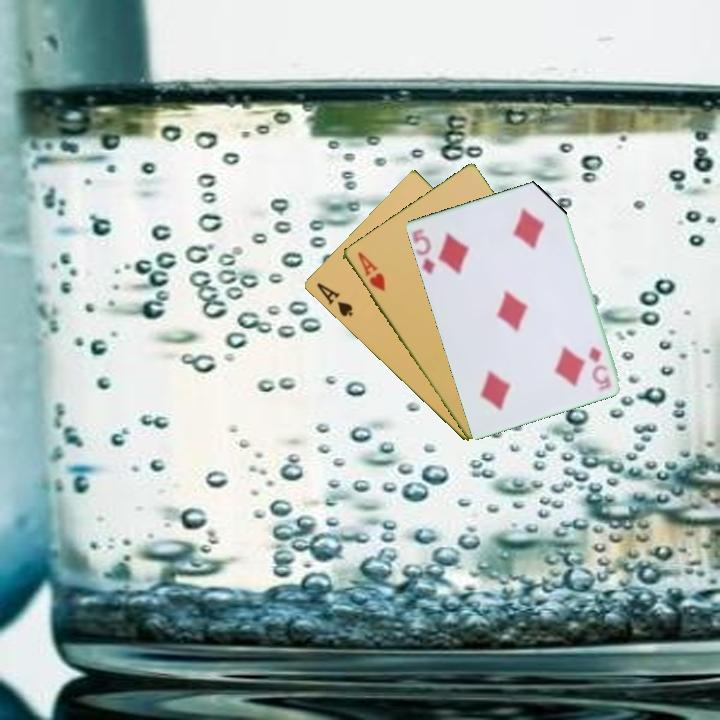5d: (411, 227, 438, 278), (586, 343, 614, 392)
Ah: (353, 248, 388, 294)
As: (312, 279, 355, 320)
